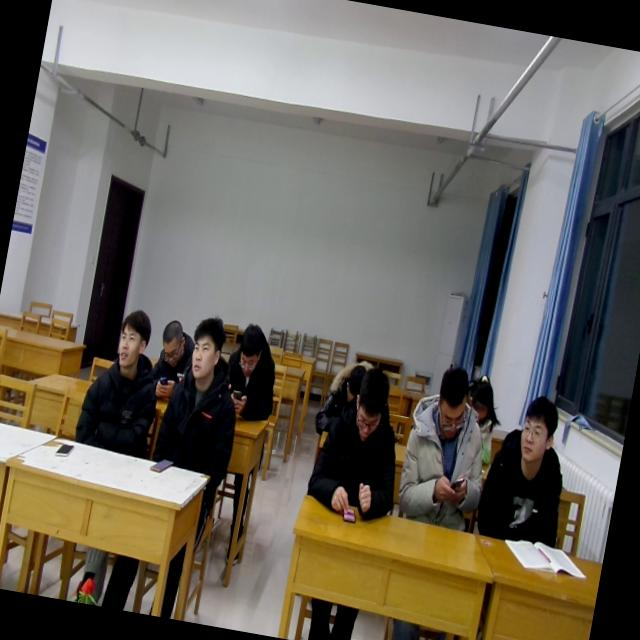bow: (218, 318, 286, 426), (310, 348, 381, 442), (453, 369, 507, 468), (146, 314, 200, 409)
down: (427, 359, 478, 444), (346, 363, 395, 448), (462, 358, 505, 429), (232, 317, 271, 379), (154, 314, 192, 370), (337, 352, 369, 405)
lookup: (509, 386, 563, 468), (182, 304, 232, 386), (109, 303, 157, 376)
sit: (390, 356, 505, 533), (303, 357, 417, 526), (148, 307, 255, 482), (472, 383, 582, 552), (71, 302, 174, 459)
